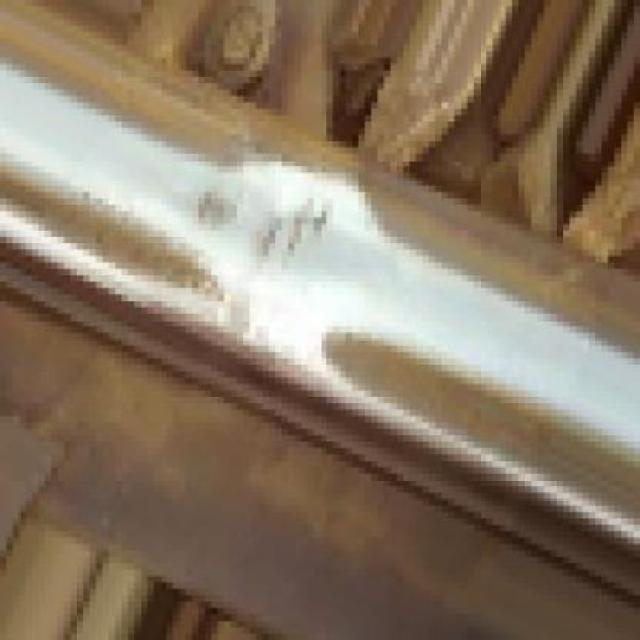defective: (146, 95, 402, 467)
